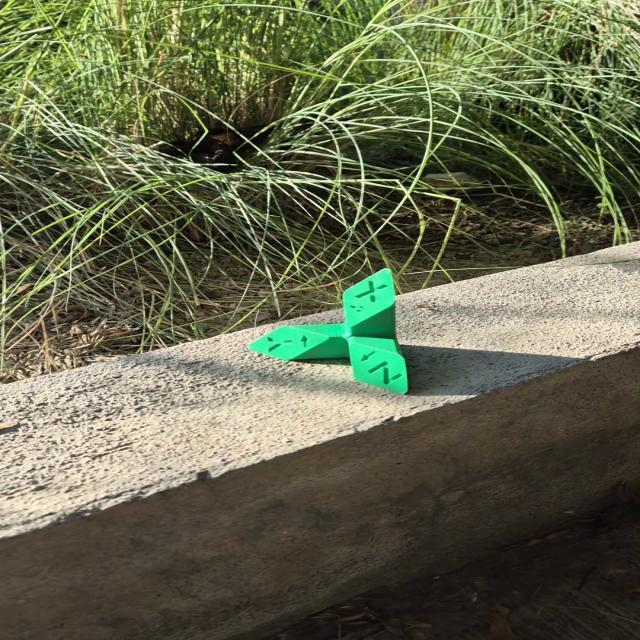eje: (244, 268, 410, 396)
